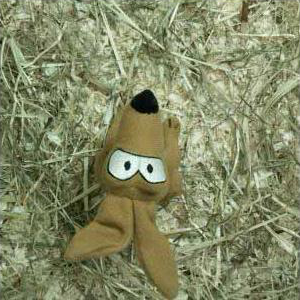dog: (62, 90, 186, 300)
